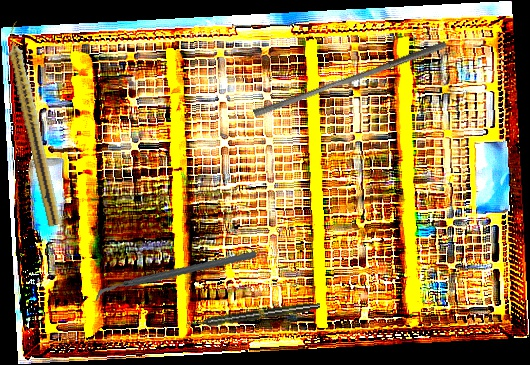Chopper: (93, 225, 257, 327)
Handpiece: (1, 20, 66, 228), (186, 300, 321, 330)
Pusher: (252, 33, 448, 124)
